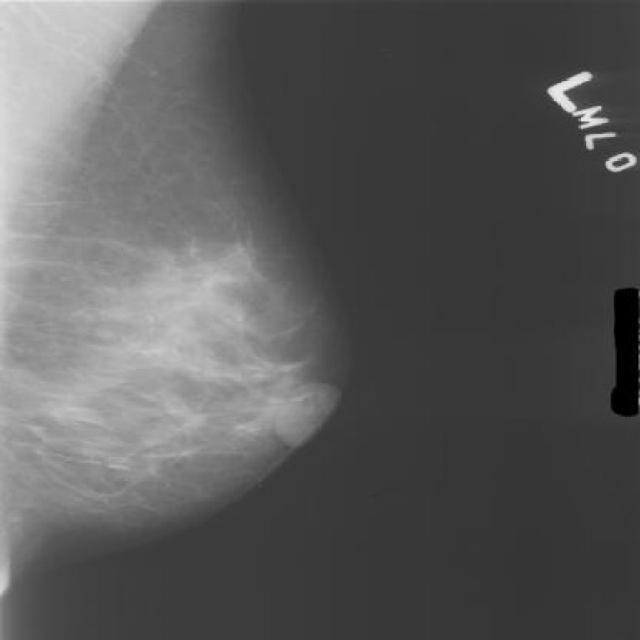tumor: (77, 209, 345, 470)
